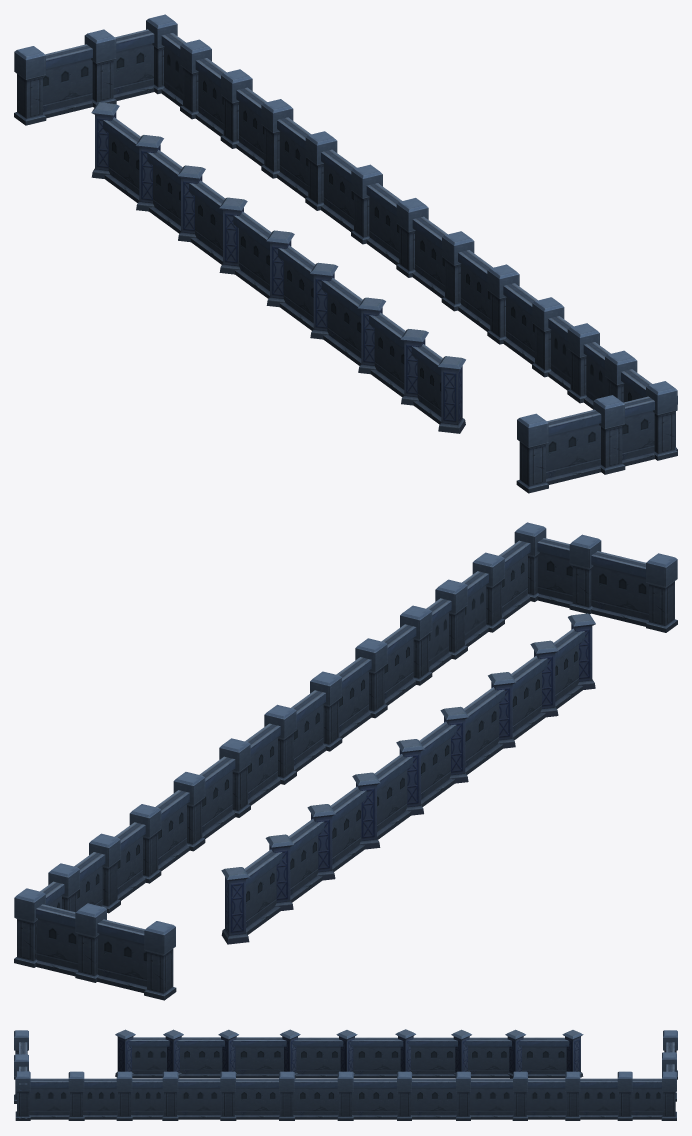
The model's file is Area_11_1.fbx.
The picture shows the model from 3 angles, top to bottom: view 1: azimuth 30°, elevation 25°; view 2: azimuth 150°, elevation 25°; view 3: azimuth 270°, elevation 25°; orthographic projection. The views are drawn at different scales.
Parts seen in each view (by area): view 1: Area_11_1; view 2: Area_11_1; view 3: Area_11_1.
Boxes of the visible parts, bbox=[...] form: Area_11_1: bbox=[14, 14, 677, 493]; Area_11_1: bbox=[14, 522, 677, 1000]; Area_11_1: bbox=[14, 1029, 677, 1120].
Size of the model in its own units: 1713 by 697 by 9590.
